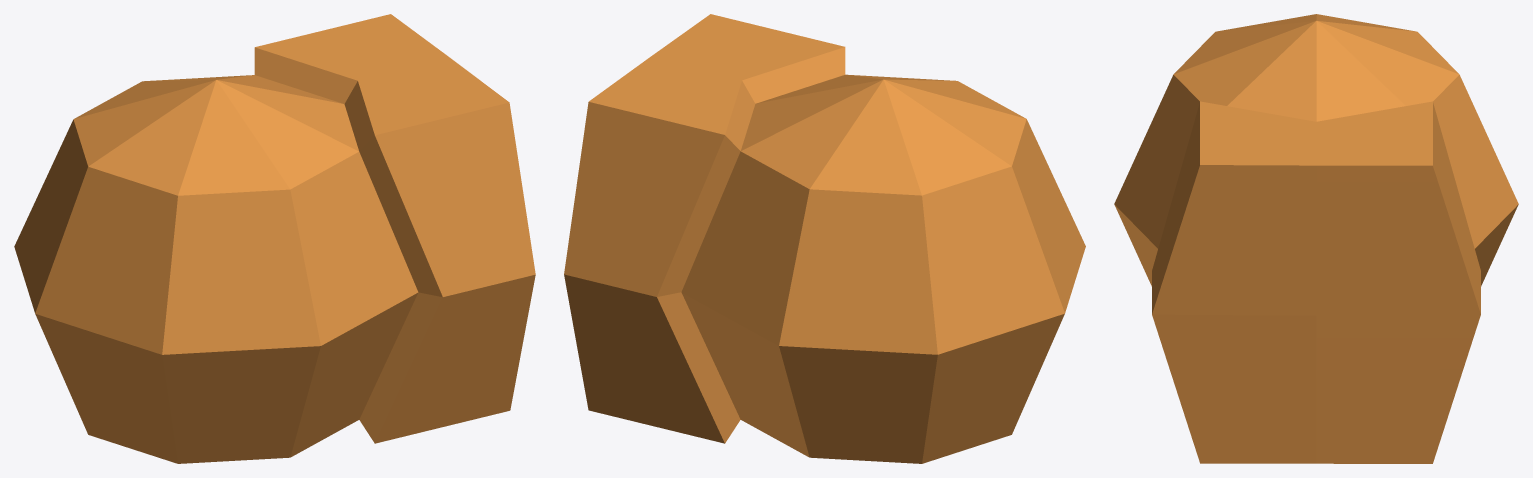
Rendered from Mao.fbx.
3 views of the same model, side by side, from view 1: azimuth 30°, elevation 25°; view 2: azimuth 150°, elevation 25°; view 3: azimuth 270°, elevation 25° (orthographic). The views are drawn at different scales.
Parts seen in each view (by area): view 1: Cube; view 2: Cube; view 3: Cube.
Part boxes in pixels (x1=…): Cube: x1=14, y1=14, x2=535, y2=463; Cube: x1=564, y1=14, x2=1085, y2=463; Cube: x1=1114, y1=14, x2=1518, y2=463.
Size of the model in its own units: 162 by 140 by 140.
